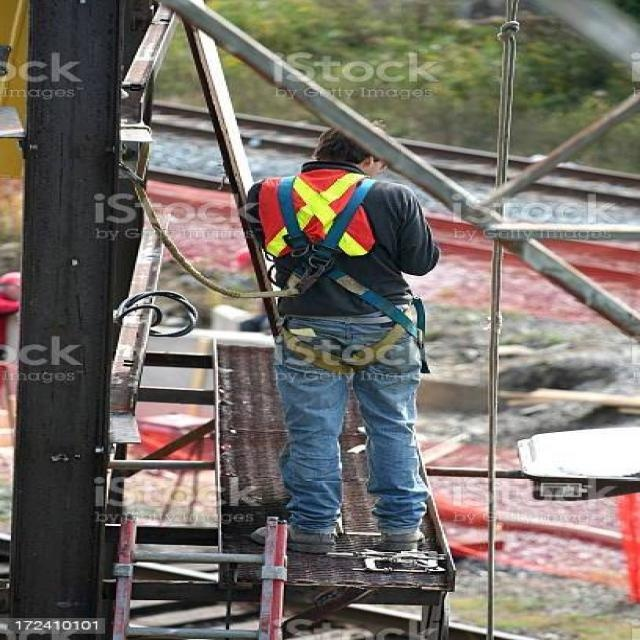Arnes_seguridad: (248, 155, 430, 376)
